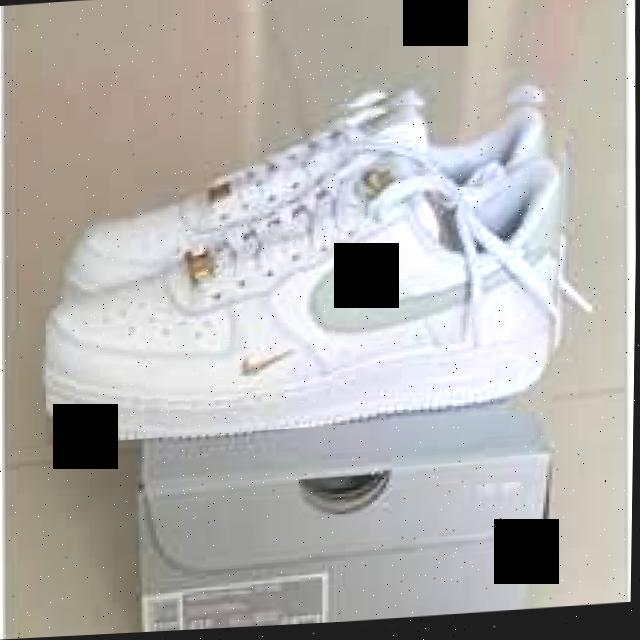shoe: (41, 83, 573, 445), (48, 135, 560, 445)
